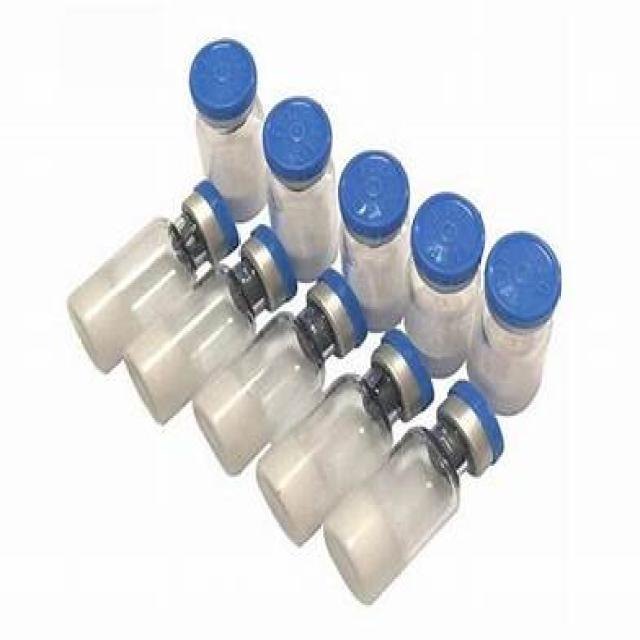vial: (412, 195, 508, 293), (340, 162, 430, 252), (492, 239, 572, 325), (369, 326, 447, 406), (261, 100, 343, 168), (444, 374, 512, 456), (231, 228, 304, 302), (183, 42, 256, 110), (303, 264, 370, 338), (186, 185, 248, 251)
